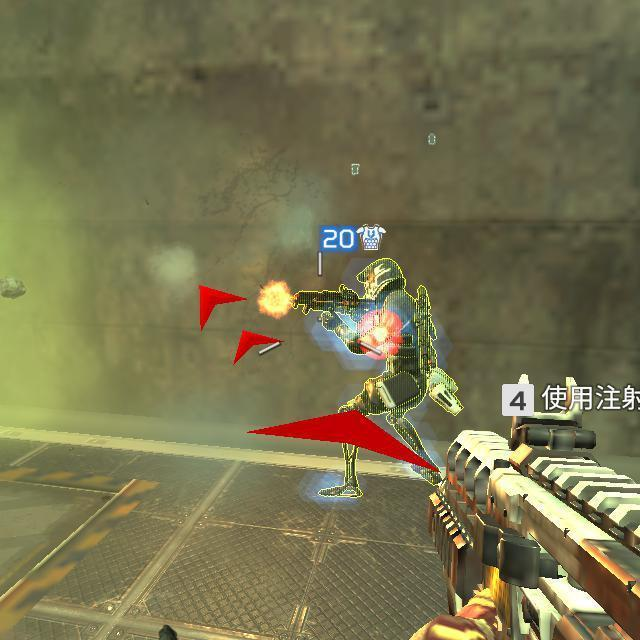avatar: (315, 255, 439, 504)
object: (355, 307, 405, 361)
